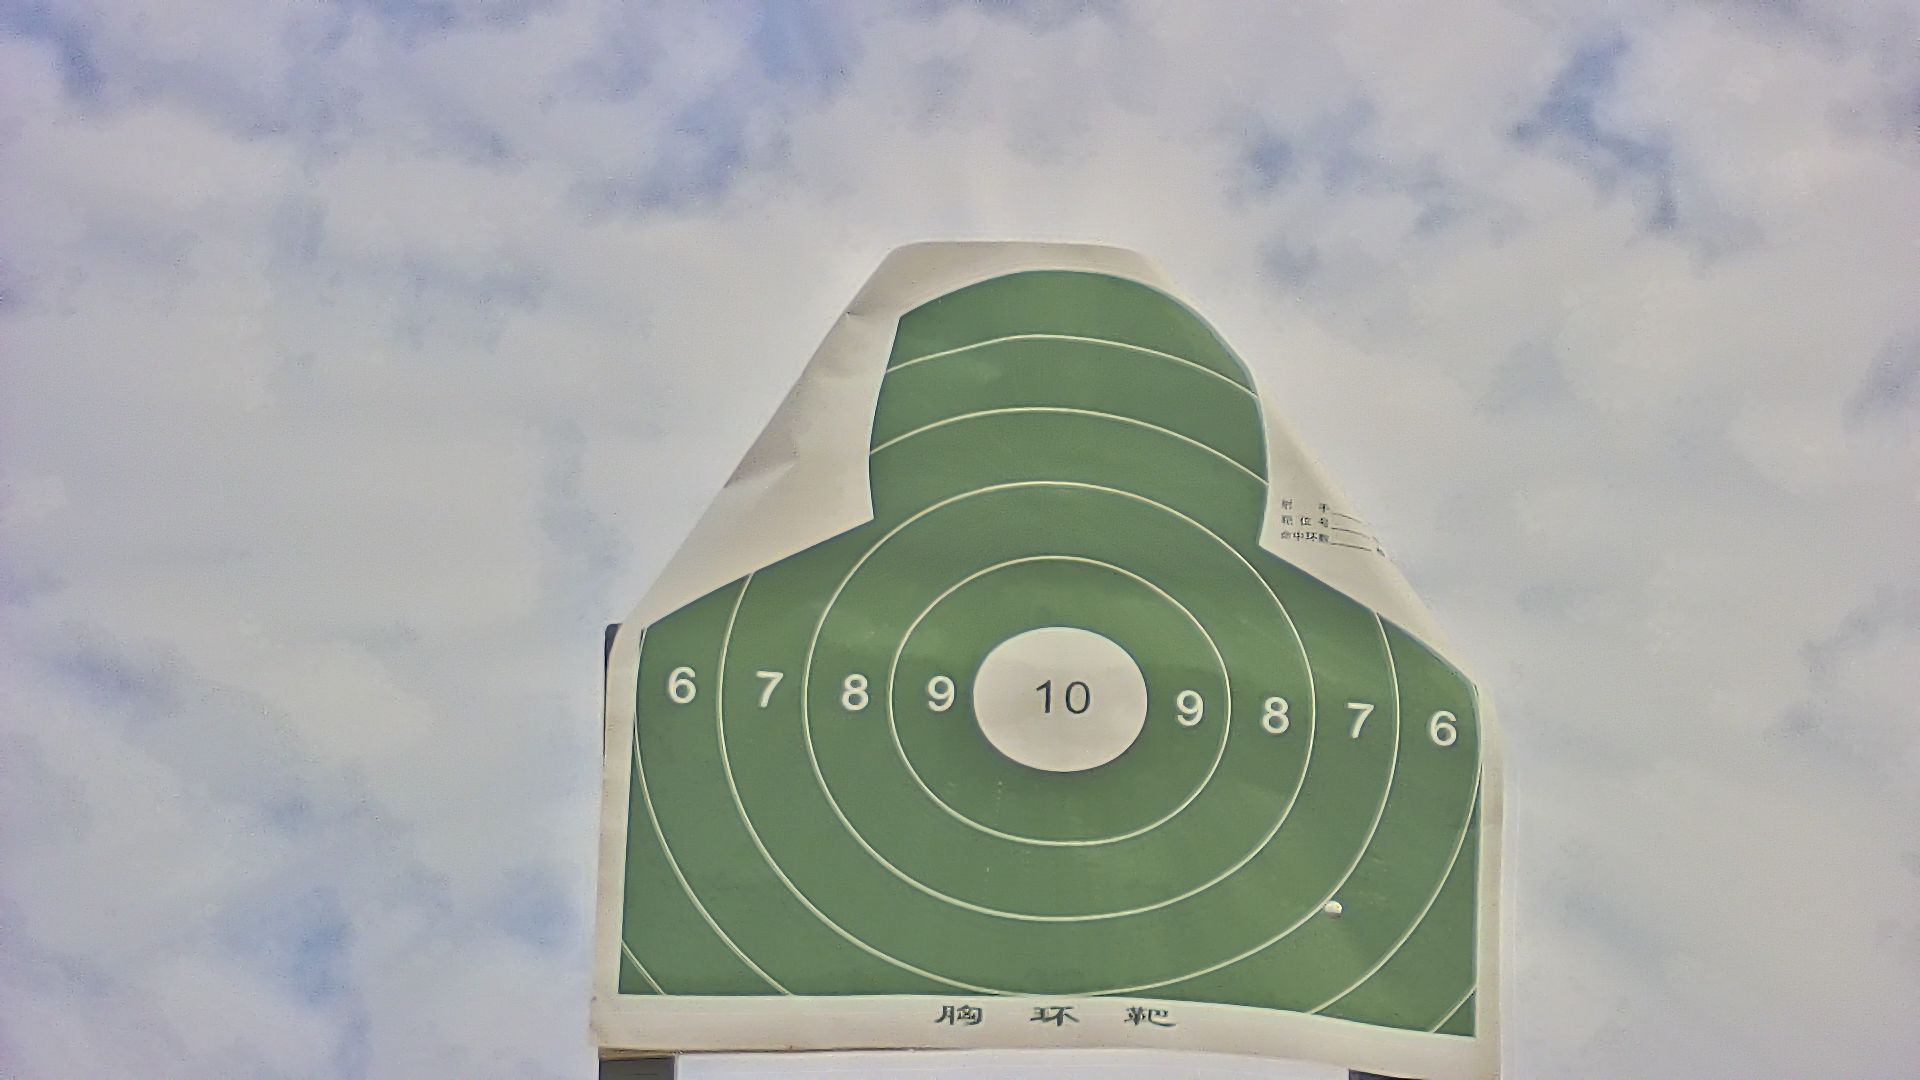kernel: (1058, 694, 1062, 705)
target: (621, 270, 1484, 1039)
ten: (972, 624, 1149, 775)
